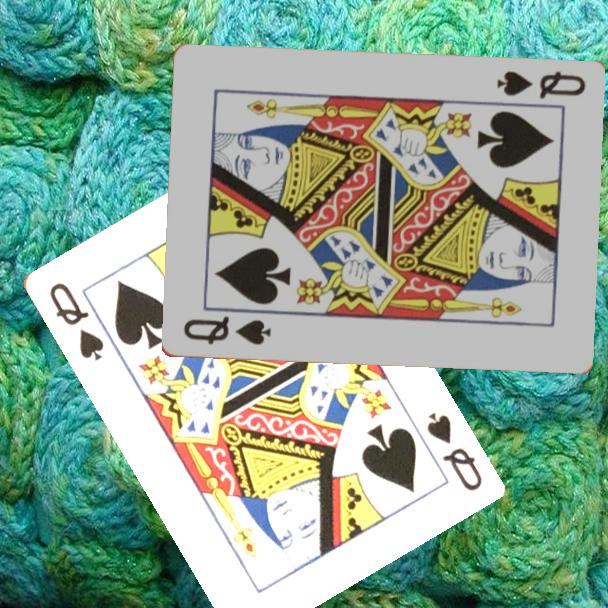s12: (422, 409, 485, 494), (45, 278, 107, 364), (179, 313, 273, 349), (493, 68, 588, 102)
